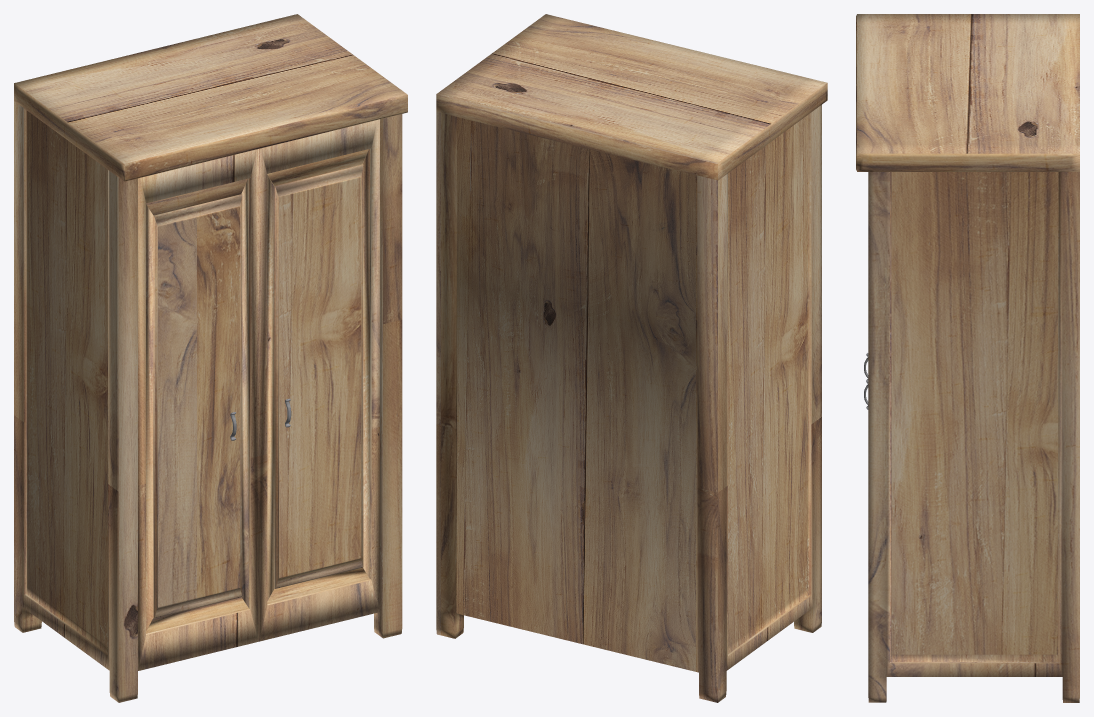
The model's file is wardrobe1.glb.
3 renders of one model, left to right at view 1: azimuth 30°, elevation 25°; view 2: azimuth 150°, elevation 25°; view 3: azimuth 270°, elevation 25°, orthographic.
Visible parts, largest first — view 1: Cube.001; view 2: Cube.001; view 3: Cube.001.
Part boxes in pixels (<box>): Cube.001: <box>14,14,407,702</box>; Cube.001: <box>436,14,827,702</box>; Cube.001: <box>856,14,1079,702</box>.
Bounding box in the file's own units: 0.6963 × 1.27 × 0.4684.
2 materials, 2 textured.
